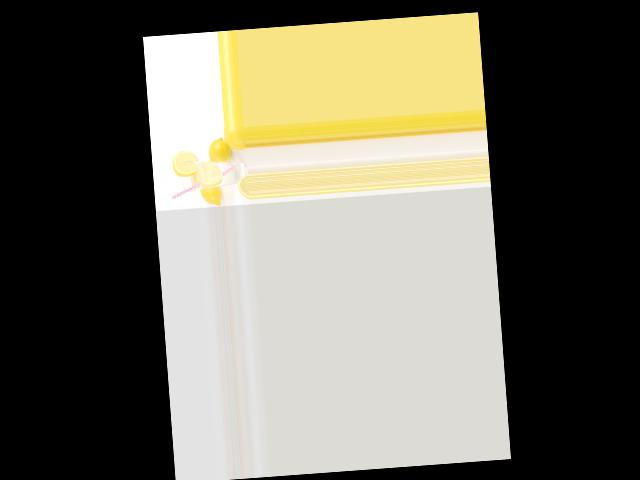lemon: (199, 180, 225, 206)
